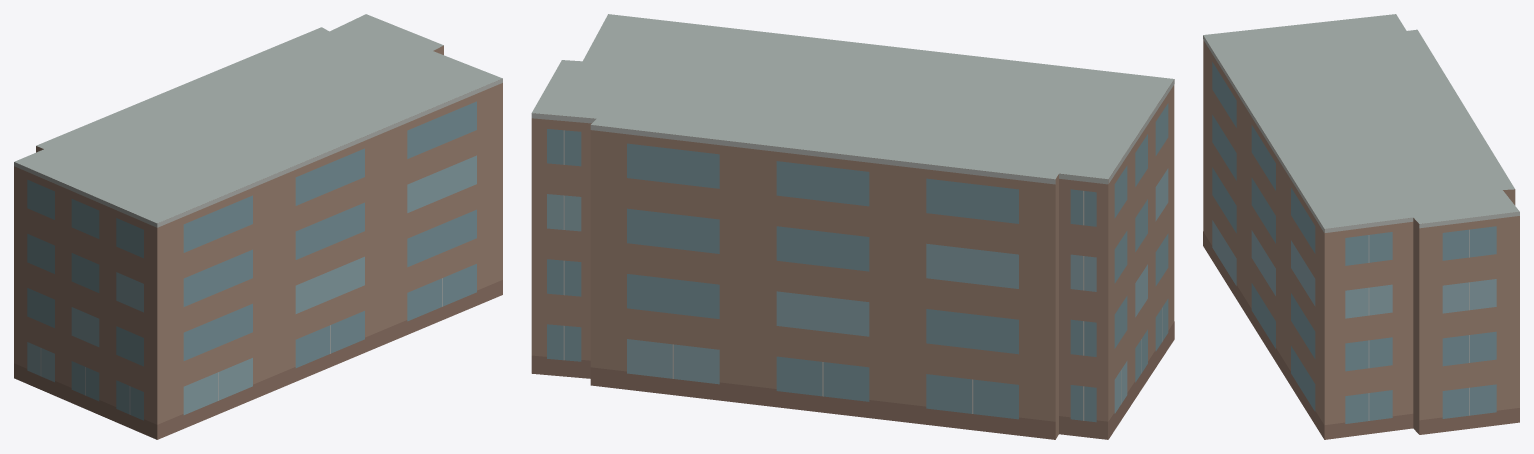
File: survey-upis-32652644.glb
The picture shows the model from 3 angles, left to right: view 1: azimuth 30°, elevation 25°; view 2: azimuth 150°, elevation 25°; view 3: azimuth 270°, elevation 25°; orthographic projection. The views are drawn at different scales.
Parts seen in each view (by area): view 1: survey-upis-32652644.tmp; view 2: survey-upis-32652644.tmp; view 3: survey-upis-32652644.tmp.
Boxes of the visible parts, x1,y1,x2,y2 form: survey-upis-32652644.tmp: [14, 14, 502, 439]; survey-upis-32652644.tmp: [531, 14, 1174, 439]; survey-upis-32652644.tmp: [1203, 14, 1519, 439].
Size of the model in its own units: 26.68 by 12.2 by 16.61.
